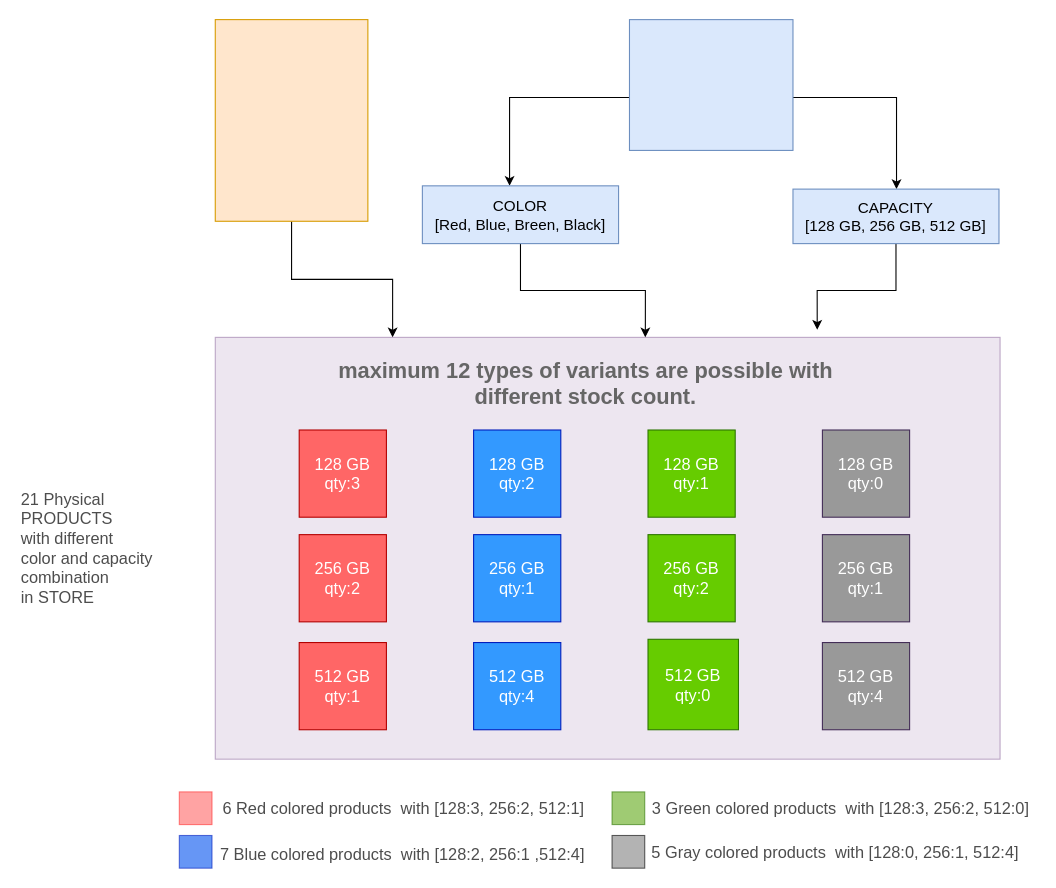
Image size: 1056x888. Some labels were removed from this diagram. Here are the shapes that lost their labels. From the top down, the box of each, then its label:
(628, 19, 793, 150): ATTRIBUTES [ capacity, color]
(214, 19, 368, 221): PRODUCT [ product_name, description, images, and other common fields ]
